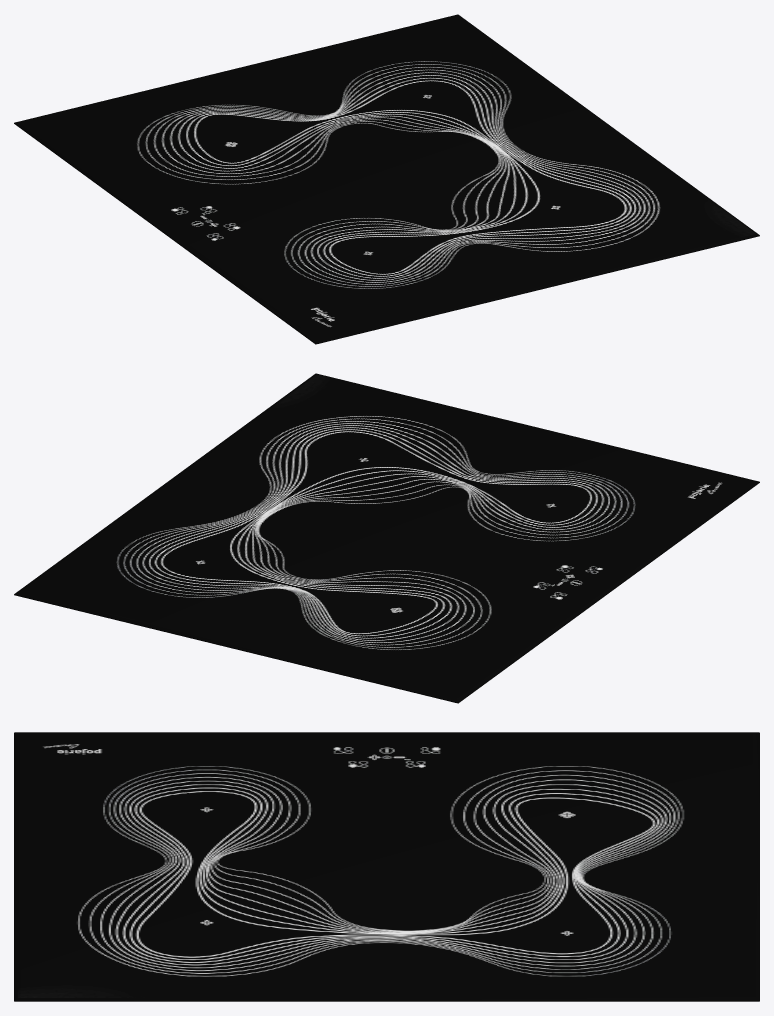
File: Induction_panel.FBX
The picture shows the model from 3 angles, top to bottom: view 1: azimuth 30°, elevation 25°; view 2: azimuth 150°, elevation 25°; view 3: azimuth 270°, elevation 25°; orthographic projection. The views are drawn at different scales.
Visible parts, largest first — view 1: Induction_panel; view 2: Induction_panel; view 3: Induction_panel.
Part boxes in pixels (box(x1,y1,x2,y2)): Induction_panel: box(14, 14, 759, 344); Induction_panel: box(14, 373, 759, 703); Induction_panel: box(14, 732, 759, 1001).
Size of the model in its own units: 51 by 0.2404 by 60.
